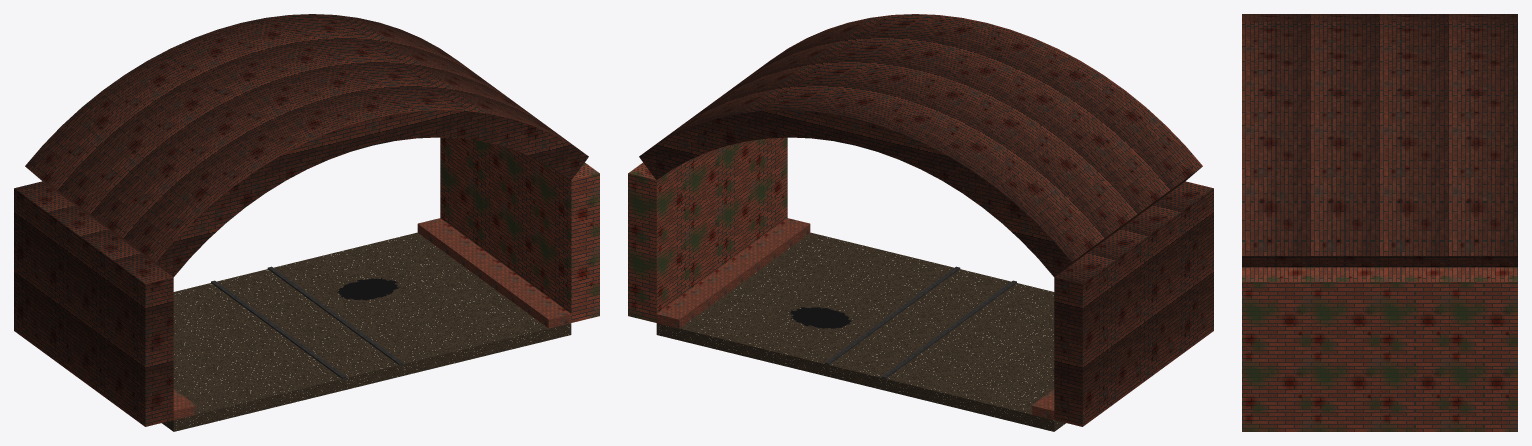
File: oldline_vault_4m_soot.glb
3 renders of one model, left to right at view 1: azimuth 30°, elevation 25°; view 2: azimuth 150°, elevation 25°; view 3: azimuth 270°, elevation 25°, orthographic. The views are drawn at different scales.
Visible parts, largest first — view 1: Vault, Floor, WallL, WallR, Curbs, SunkenRails, Puddle; view 2: Vault, Floor, WallL, WallR, Curbs, SunkenRails, Puddle; view 3: Vault, WallR.
Part boxes in pixels (x1=…): Vault: x1=25, y1=14, x2=588, y2=277; Floor: x1=162, y1=232, x2=571, y2=431; WallL: x1=14, y1=181, x2=173, y2=426; WallR: x1=440, y1=137, x2=599, y2=322; Curbs: x1=173, y1=218, x2=571, y2=419; SunkenRails: x1=211, y1=266, x2=402, y2=380; Puddle: x1=337, y1=278, x2=399, y2=300; Vault: x1=639, y1=14, x2=1202, y2=277; Floor: x1=656, y1=232, x2=1065, y2=431; WallL: x1=1054, y1=181, x2=1213, y2=426; WallR: x1=628, y1=137, x2=787, y2=322; Curbs: x1=656, y1=218, x2=1054, y2=419; SunkenRails: x1=825, y1=266, x2=1016, y2=379; Puddle: x1=790, y1=307, x2=851, y2=328; Vault: x1=1242, y1=14, x2=1517, y2=267; WallR: x1=1242, y1=267, x2=1517, y2=431.
Size of what is drawn, in the model's own units: 8 by 4.45 by 4.
Materials: 6 (6 with a texture image).
